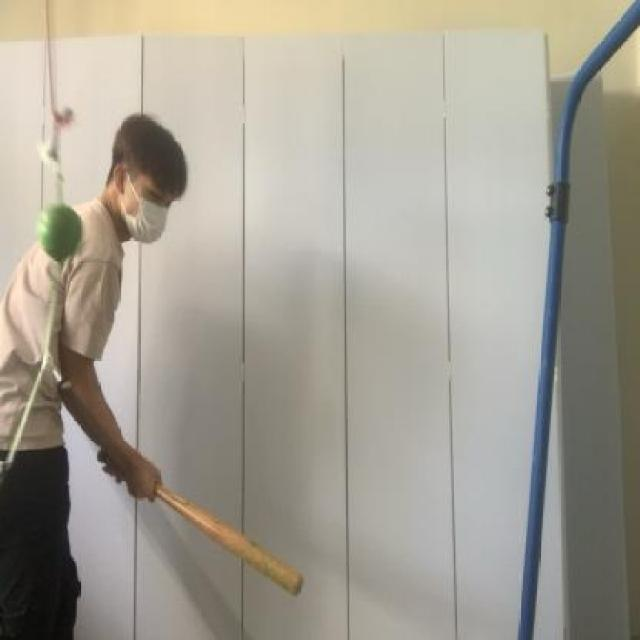baseball: (28, 188, 84, 268)
